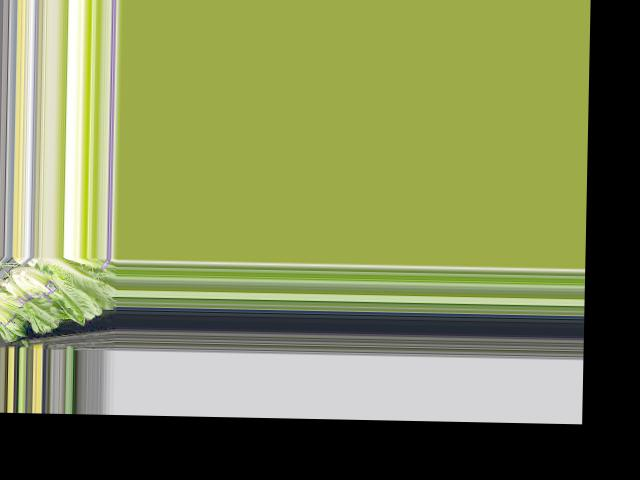lettuce: (37, 260, 115, 316)
